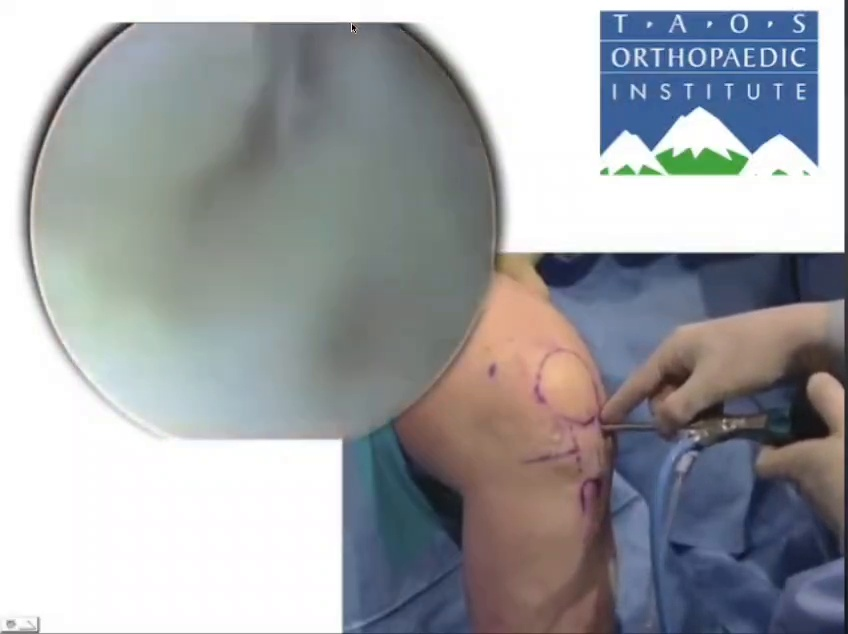arthroscope: (505, 270, 848, 548)
probe: (740, 364, 848, 532), (604, 463, 661, 624)
